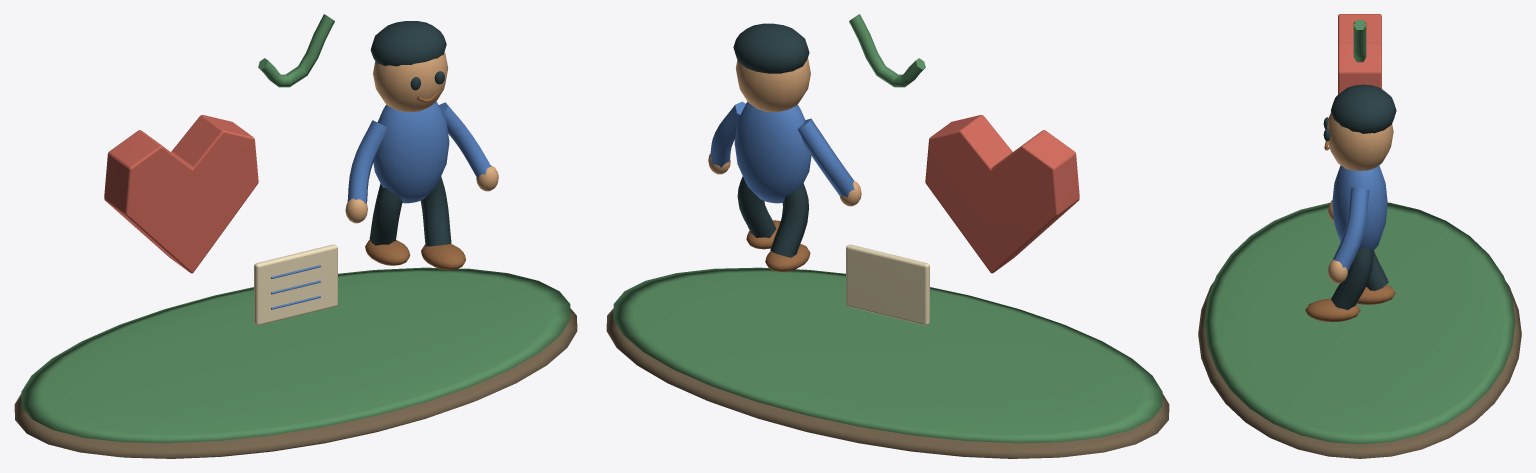
The model's file is complete-first-heart-directed-understanding.glb.
3 renders of one model, left to right at view 1: azimuth 30°, elevation 25°; view 2: azimuth 150°, elevation 25°; view 3: azimuth 270°, elevation 25°, orthographic. The views are drawn at different scales.
Parts seen in each view (by area): view 1: complete-first-heart-directed-understanding_surface_01, complete-first-heart-directed-understanding_surface_02, complete-first-heart-directed-understanding_surface_00, complete-first-heart-directed-understanding_surface_06, complete-first-heart-directed-understanding_surface_04, complete-first-heart-directed-understanding_surface_07, complete-first-heart-directed-understanding_surface_03, complete-first-heart-directed-understanding_surface_05; view 2: complete-first-heart-directed-understanding_surface_01, complete-first-heart-directed-understanding_surface_02, complete-first-heart-directed-understanding_surface_00, complete-first-heart-directed-understanding_surface_06, complete-first-heart-directed-understanding_surface_04, complete-first-heart-directed-understanding_surface_07, complete-first-heart-directed-understanding_surface_03, complete-first-heart-directed-understanding_surface_05; view 3: complete-first-heart-directed-understanding_surface_01, complete-first-heart-directed-understanding_surface_00, complete-first-heart-directed-understanding_surface_04, complete-first-heart-directed-understanding_surface_06, complete-first-heart-directed-understanding_surface_03, complete-first-heart-directed-understanding_surface_02, complete-first-heart-directed-understanding_surface_05.
Part boxes in pixels (left/top/right/bottom): complete-first-heart-directed-understanding_surface_01: left=21, top=14, right=570, bottom=443; complete-first-heart-directed-understanding_surface_02: left=104, top=115, right=258, bottom=273; complete-first-heart-directed-understanding_surface_00: left=14, top=308, right=577, bottom=458; complete-first-heart-directed-understanding_surface_06: left=271, top=101, right=491, bottom=309; complete-first-heart-directed-understanding_surface_04: left=369, top=21, right=451, bottom=246; complete-first-heart-directed-understanding_surface_07: left=254, top=244, right=337, bottom=325; complete-first-heart-directed-understanding_surface_03: left=345, top=52, right=498, bottom=223; complete-first-heart-directed-understanding_surface_05: left=365, top=92, right=465, bottom=270; complete-first-heart-directed-understanding_surface_01: left=613, top=14, right=1162, bottom=443; complete-first-heart-directed-understanding_surface_02: left=925, top=115, right=1079, bottom=273; complete-first-heart-directed-understanding_surface_00: left=606, top=308, right=1169, bottom=458; complete-first-heart-directed-understanding_surface_06: left=710, top=101, right=854, bottom=203; complete-first-heart-directed-understanding_surface_04: left=733, top=23, right=809, bottom=257; complete-first-heart-directed-understanding_surface_07: left=846, top=244, right=929, bottom=325; complete-first-heart-directed-understanding_surface_03: left=708, top=58, right=861, bottom=206; complete-first-heart-directed-understanding_surface_05: left=746, top=220, right=810, bottom=271; complete-first-heart-directed-understanding_surface_01: left=1204, top=20, right=1515, bottom=444; complete-first-heart-directed-understanding_surface_00: left=1198, top=281, right=1521, bottom=458; complete-first-heart-directed-understanding_surface_04: left=1323, top=84, right=1396, bottom=309; complete-first-heart-directed-understanding_surface_06: left=1332, top=165, right=1387, bottom=272; complete-first-heart-directed-understanding_surface_03: left=1327, top=112, right=1393, bottom=283; complete-first-heart-directed-understanding_surface_02: left=1338, top=14, right=1381, bottom=94; complete-first-heart-directed-understanding_surface_05: left=1305, top=141, right=1395, bottom=322.
Size of the model in its own units: 4.56 by 2.92 by 2.5.
